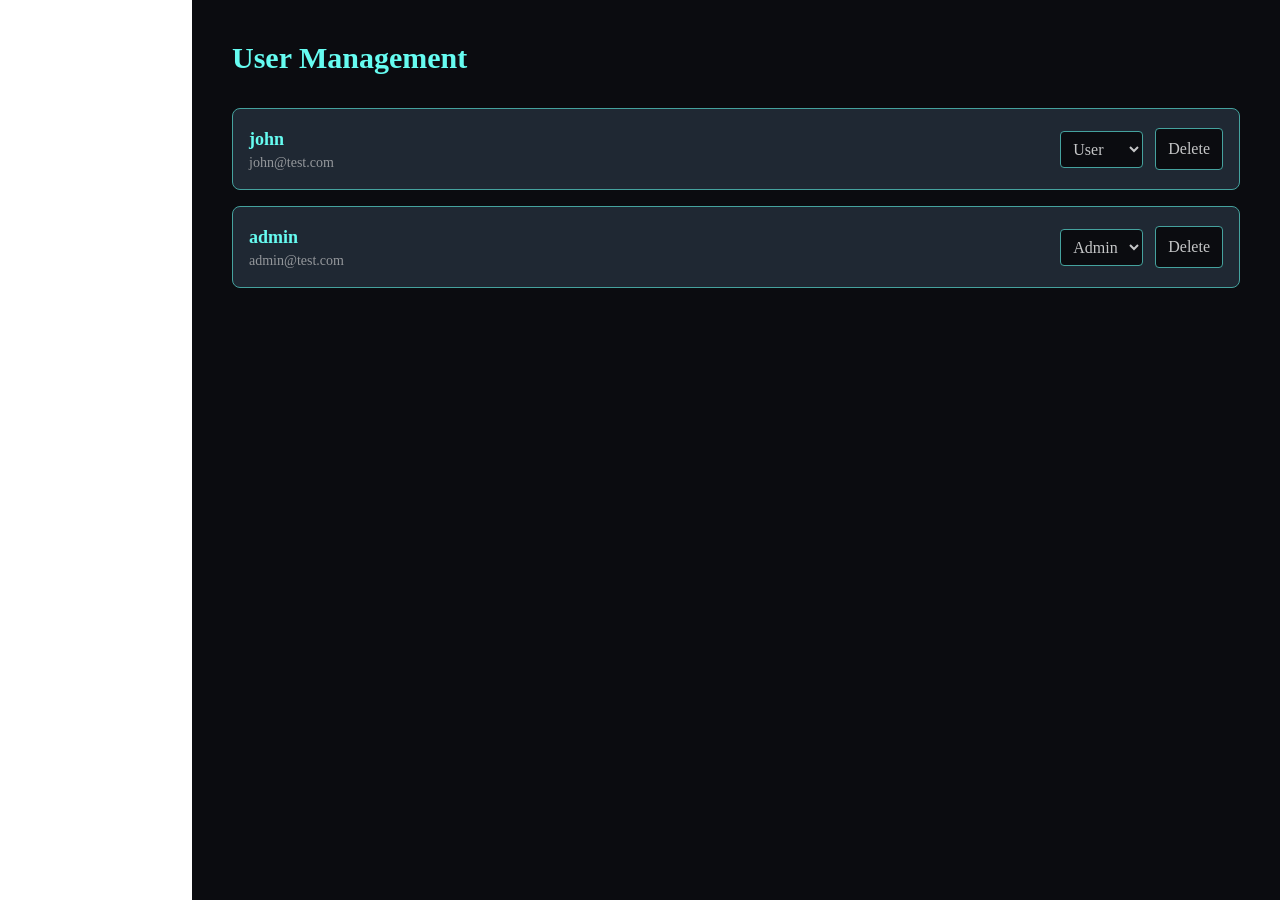
Scenario: UserRolesPage › opens delete modal
Click the button "Delete" in the row of "john@test.com" at (1189, 149), box top-left (1155, 128), bottom-right (1223, 170)
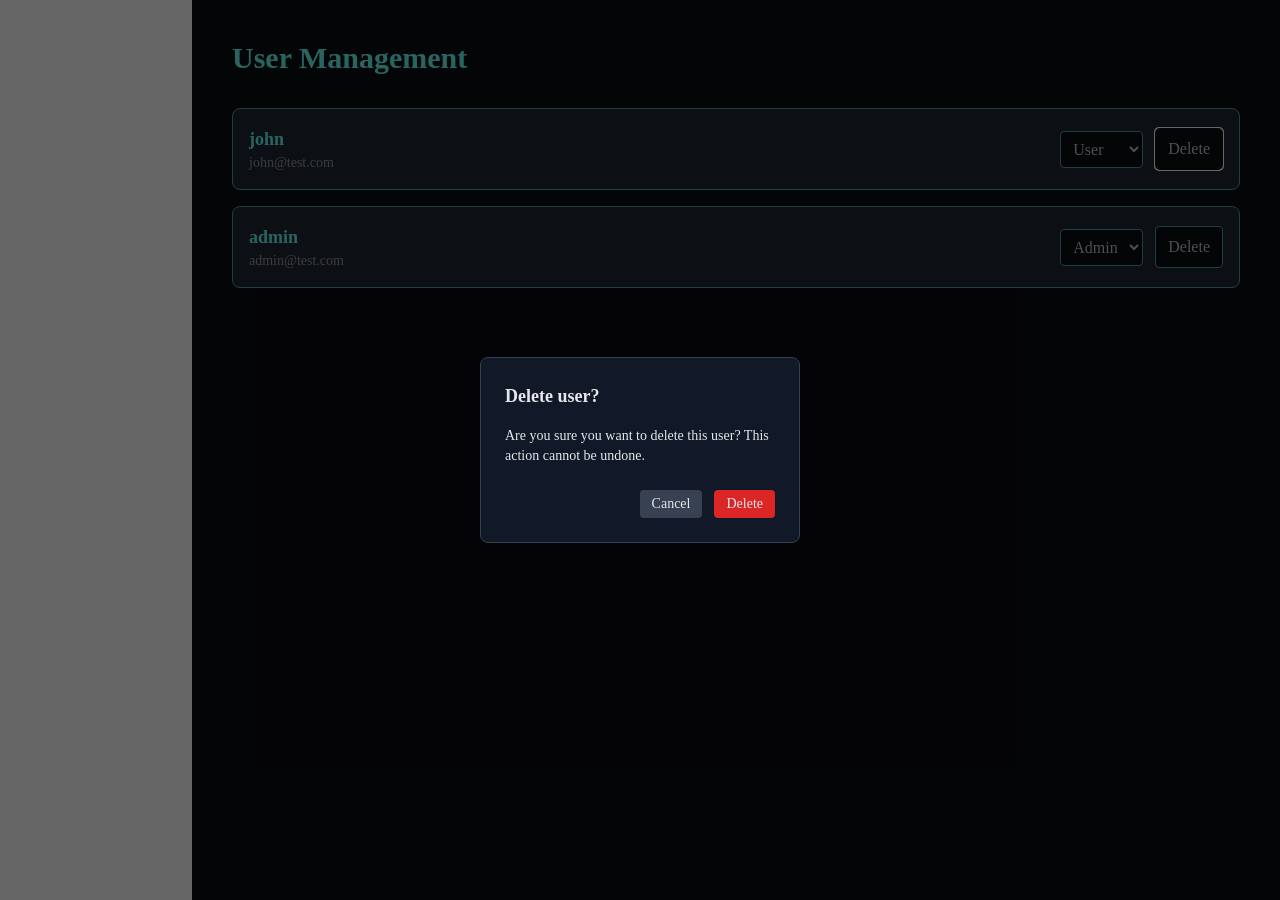
Check: the heading "Delete user?" is shown, box top-left (505, 386), bottom-right (600, 406)
